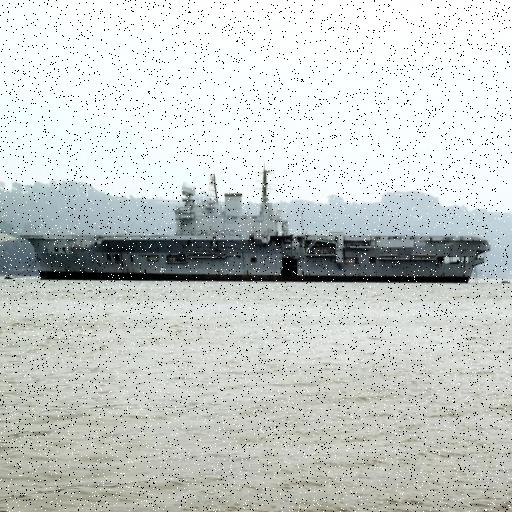Portanaves: (21, 159, 493, 284)
